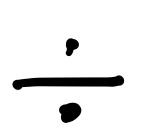div: (10, 34, 126, 126)
